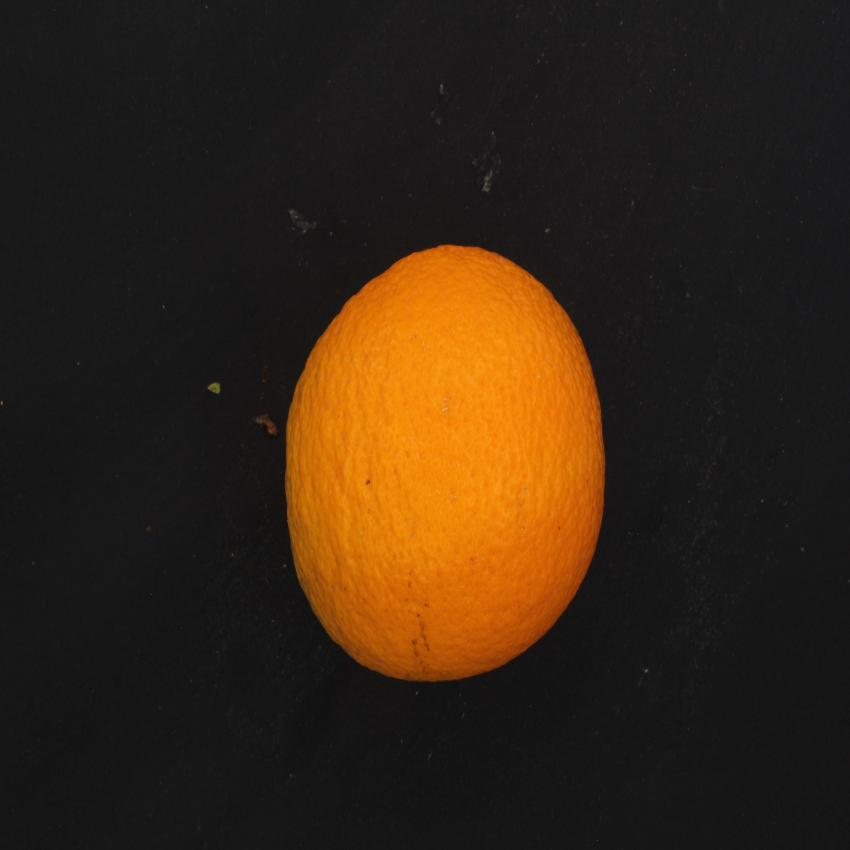Buen estado: (254, 234, 618, 697)
